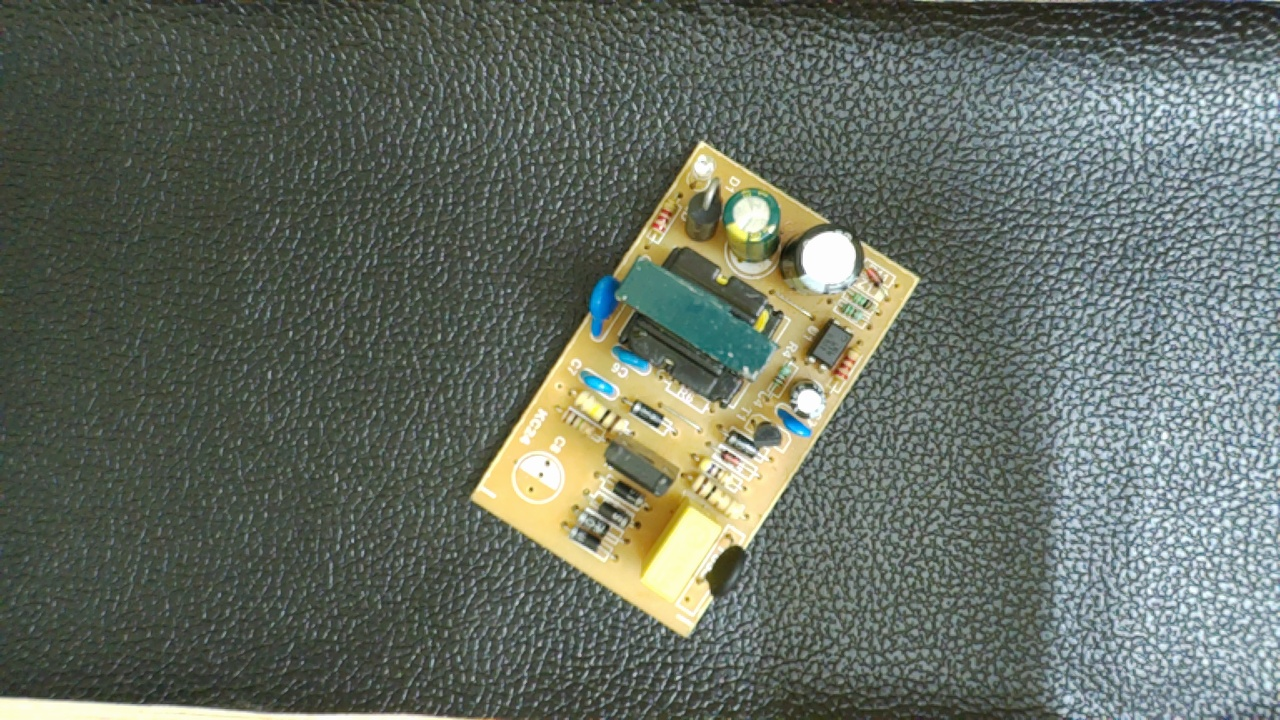fuse: (699, 533, 750, 609)
mov: (581, 269, 626, 342)
optocoupler: (806, 314, 855, 374)
